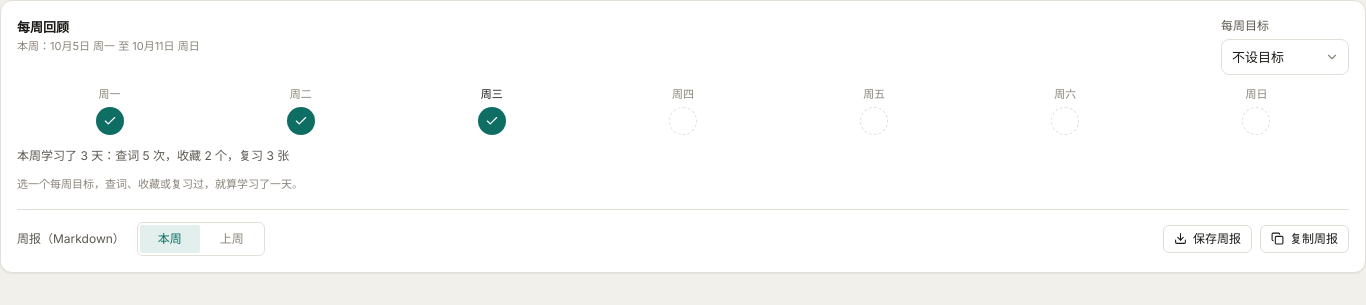
Test: the weekly card of the insights page › the goal › is saved when it is chosen, and the week is held up against it
Select "每周 5 天" in the dropdown labelled "每周目标": [1285, 57] box top-left (1221, 39), bottom-right (1349, 75)
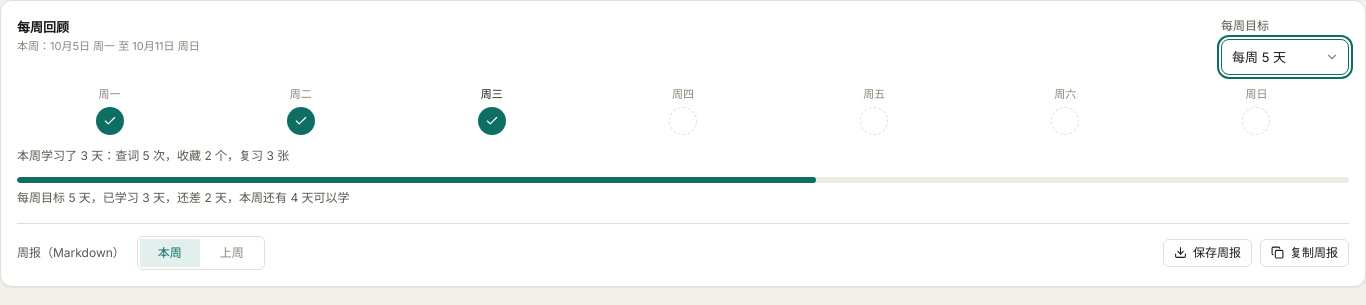
Now the text "每周目标 5 天，已学习 3 天，还差 2 天，本周还有 4 天可以学" is shown, box top-left (17, 190), bottom-right (350, 205)
Now the text "选一个每周目标" is gone
